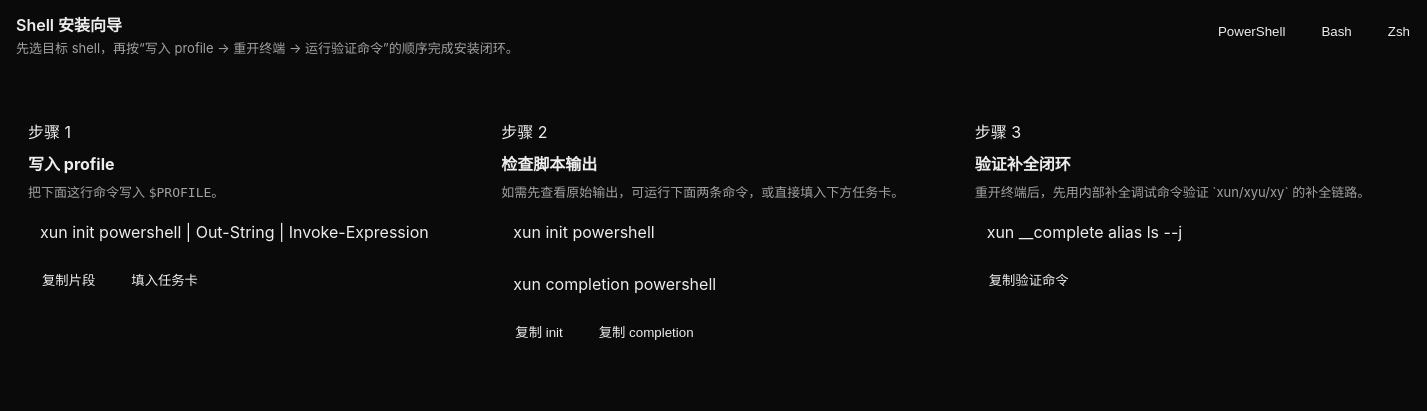
Test case: ShellIntegrationGuidePanel › renders profile guidance and copies commands for the active shell
Expected: the text with test id "shell-guide-profile-path" reads "$PROFILE", [149, 185, 211, 200]
Expected: the text with test id "shell-guide-profile-command" shows "xun init powershell", [40, 222, 429, 242]
What coordinates should you click on to do the following:
click the button with test id "shell-guide-shell-bash"
I would click on:
 (1337, 32)
Its box is [1307, 16, 1366, 47].
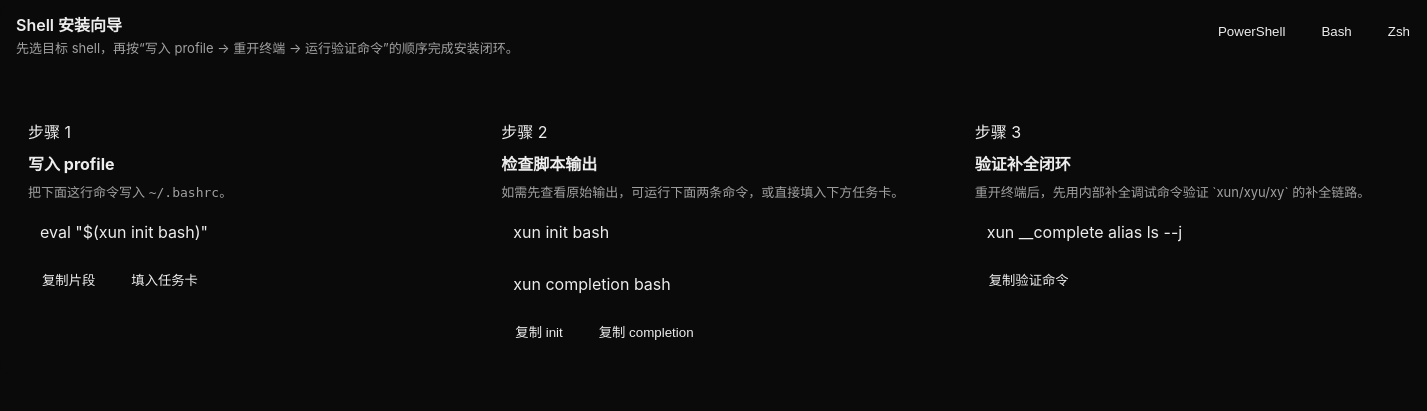
Expected: the text with test id "shell-guide-profile-path" reads "~/.bashrc", [149, 185, 219, 200]
Expected: the text with test id "shell-guide-completion-command" reads "xun completion bash", [513, 274, 671, 294]
What coordinates should you click on to do the following:
click the button with test id "shell-guide-copy-profile"
I would click on:
 (69, 280)
Its box is [28, 262, 109, 297].
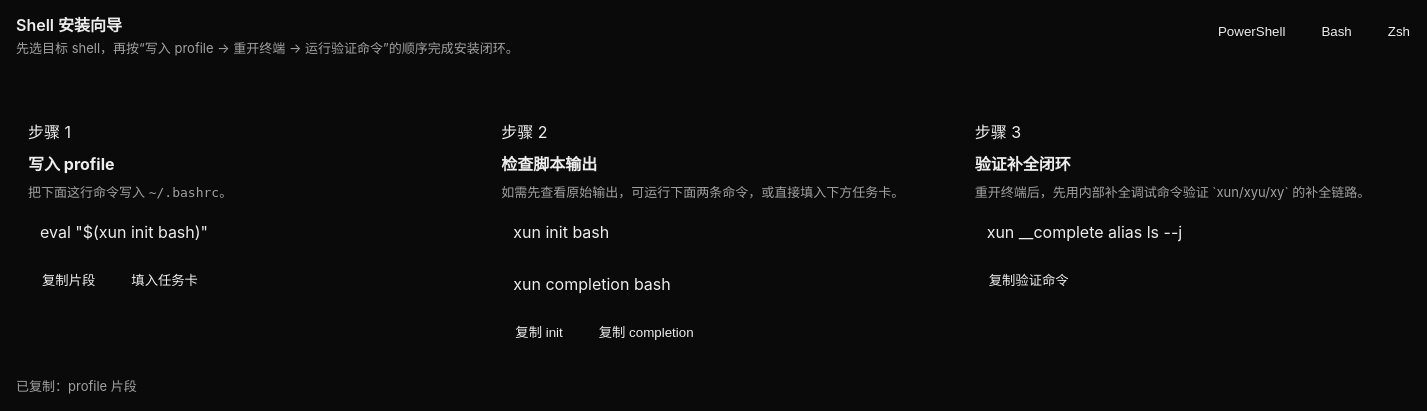
Expected: the text with test id "shell-guide-copy-feedback" shows "已复制", [16, 378, 137, 394]
